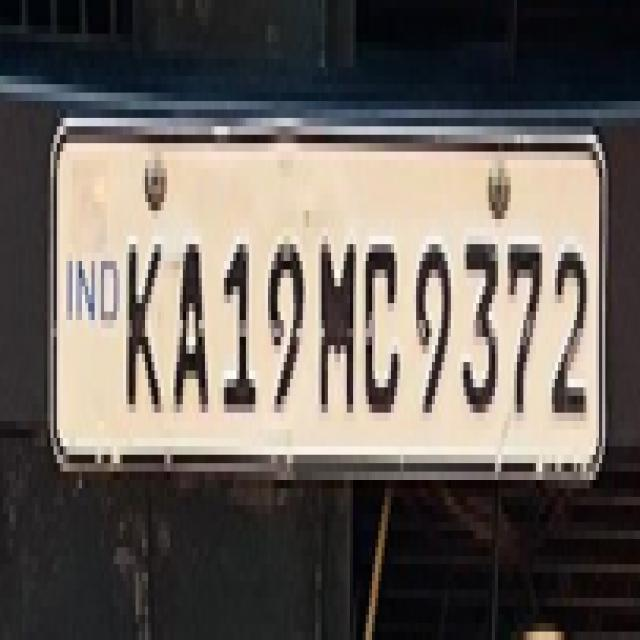1: (216, 228, 258, 422)
3: (462, 227, 504, 438)
7: (504, 228, 544, 429)
9: (262, 224, 308, 426), (412, 231, 452, 424)
A: (167, 231, 210, 424)
C: (360, 233, 406, 424)
K: (120, 223, 165, 421)
M: (316, 224, 358, 428)
